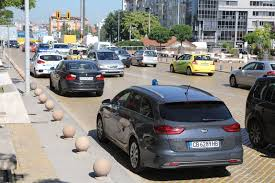registration_plate: (184, 140, 222, 150), (79, 76, 95, 82)
